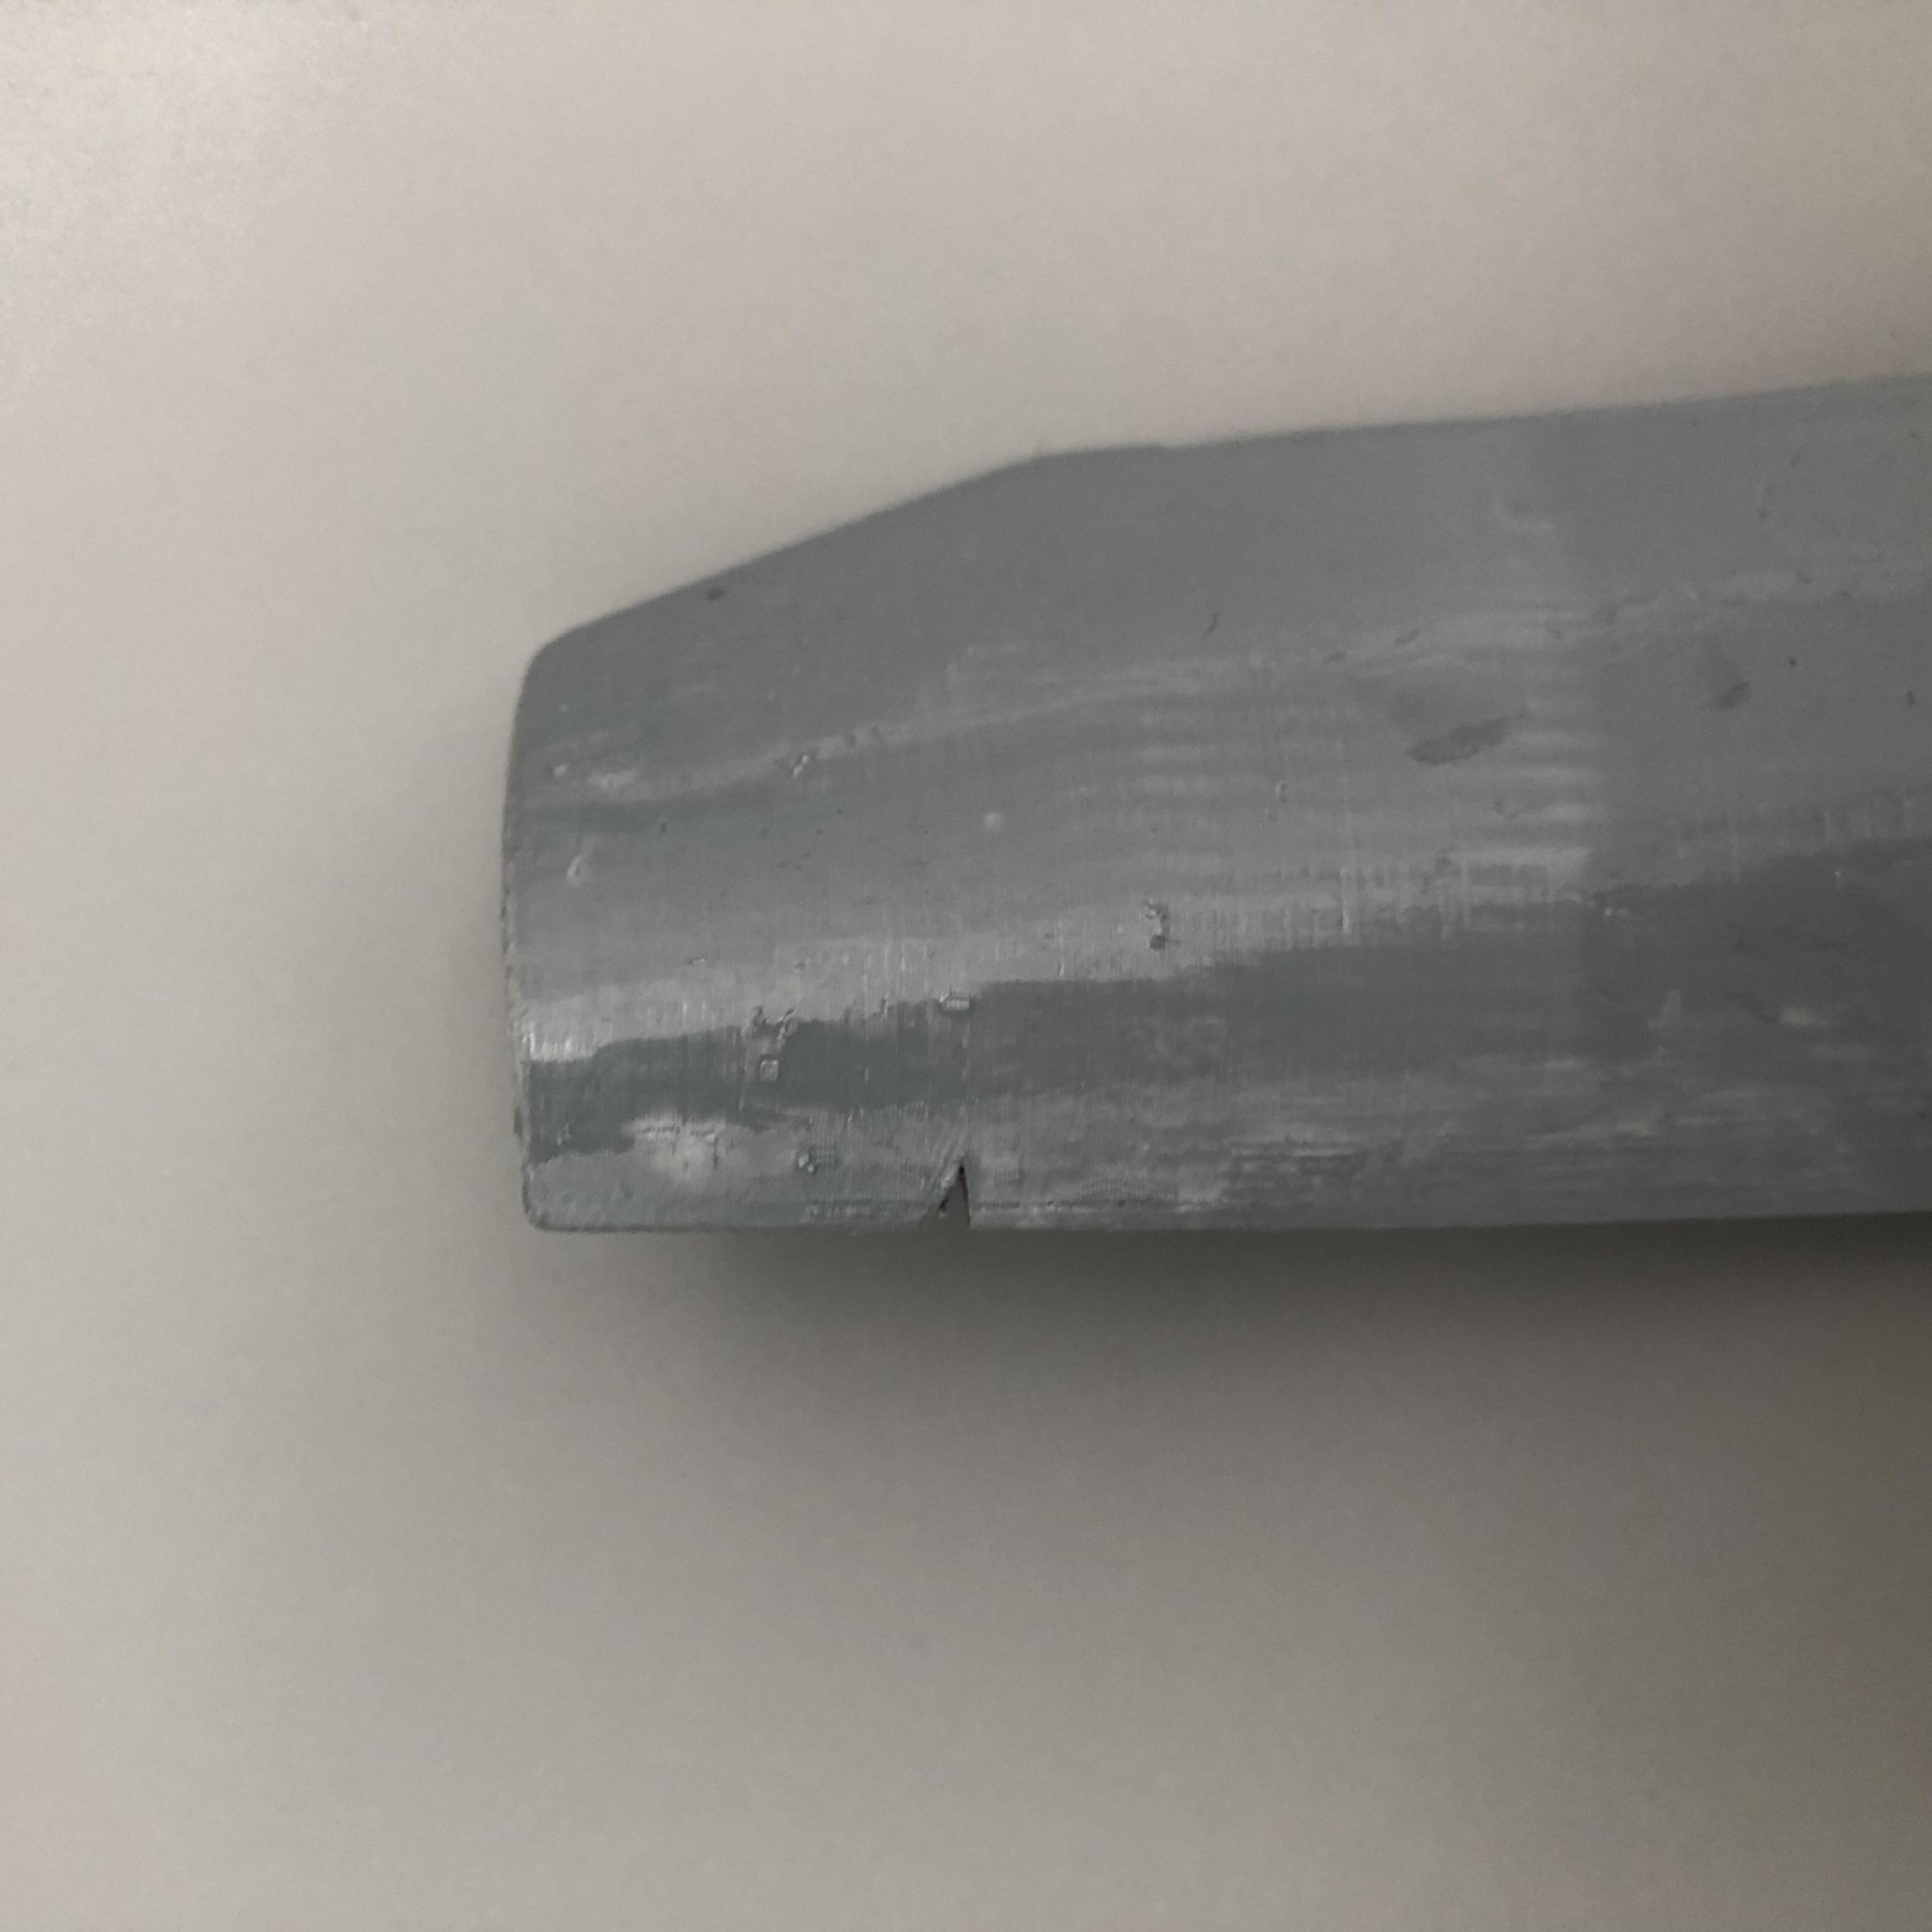groove: (902, 1161, 1010, 1231)
